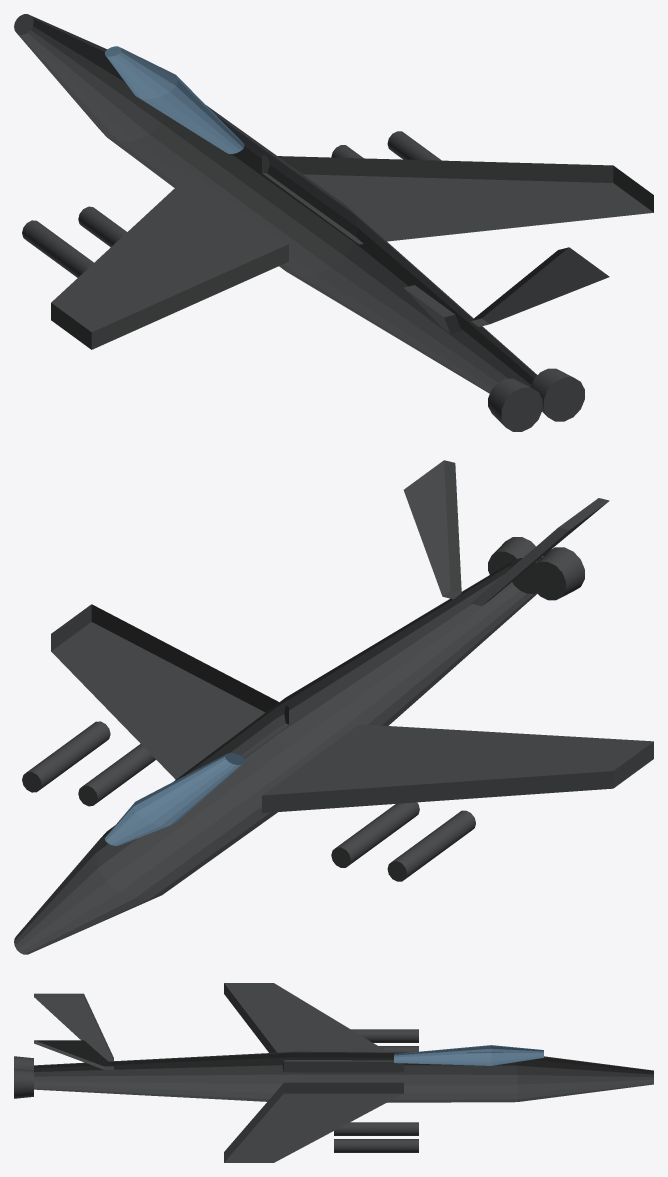
Rendered from strafe_jet.glb.
3 renders of one model, top to bottom at view 1: azimuth 30°, elevation 25°; view 2: azimuth 150°, elevation 25°; view 3: azimuth 270°, elevation 25°, orthographic. The views are drawn at different scales.
Parts seen in each view (by area): view 1: strafe_jet__strafe_jet, strafe_jet__canopy; view 2: strafe_jet__strafe_jet, strafe_jet__canopy; view 3: strafe_jet__strafe_jet, strafe_jet__canopy.
Boxes of the visible parts, <box> form: strafe_jet__strafe_jet: <box>14,14,653,431</box>; strafe_jet__canopy: <box>104,46,244,153</box>; strafe_jet__strafe_jet: <box>14,460,653,954</box>; strafe_jet__canopy: <box>104,753,244,845</box>; strafe_jet__strafe_jet: <box>14,983,653,1162</box>; strafe_jet__canopy: <box>394,1045,543,1065</box>.
Size of the model in its own units: 0.8 by 0.18 by 1.28.
